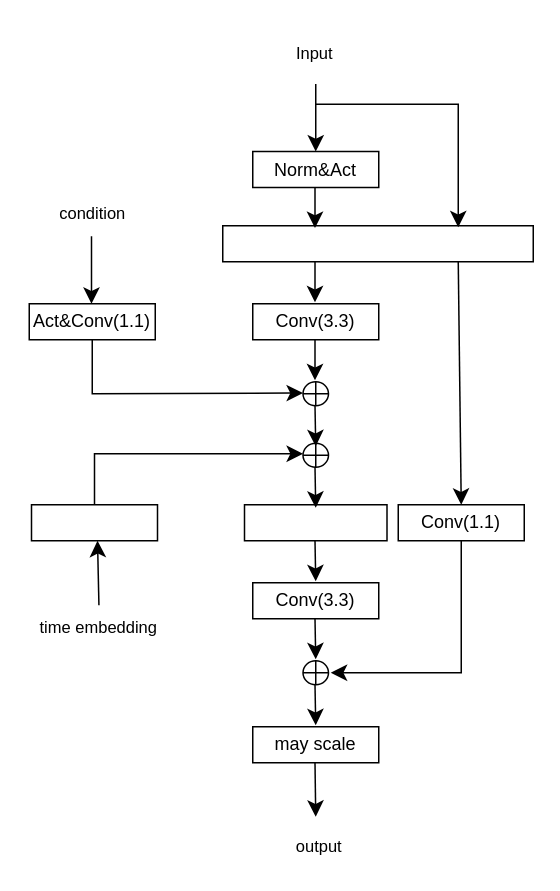
Some shapes in this 560 by 891 pixel diagram are drawn without their labels. Each missing label, with the centre of its shape:
"Act&Dense" belongs at point (94, 522).
"Norm&Act&Drop" belongs at point (315, 522).
"Up/Down(to see detail)" belongs at point (377, 243).
